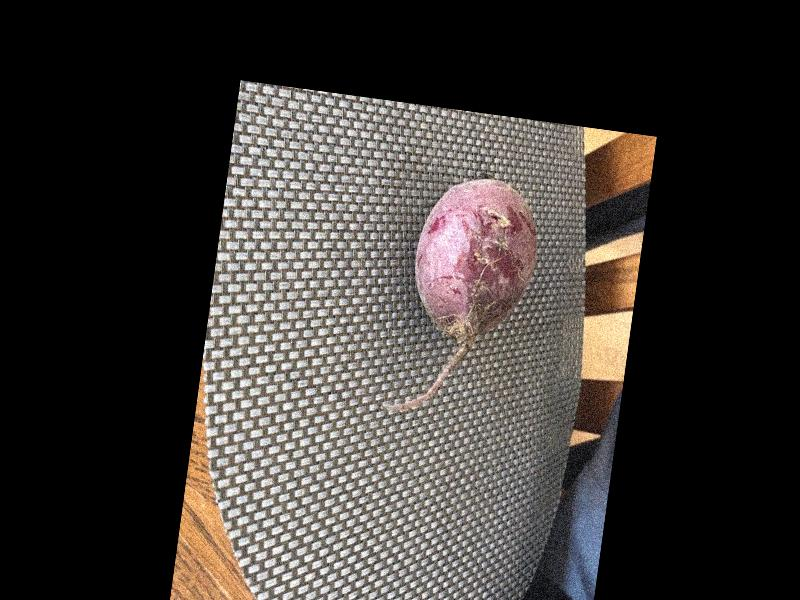Beet: (381, 171, 546, 428)
